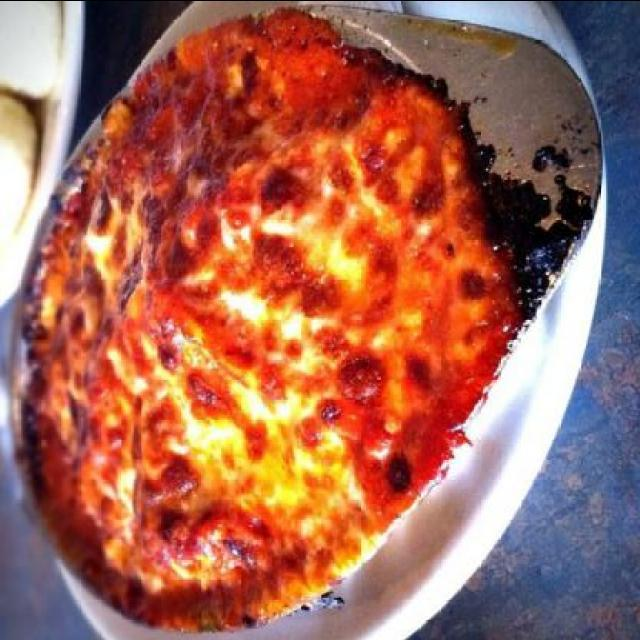Lasagna: (29, 81, 534, 590)
